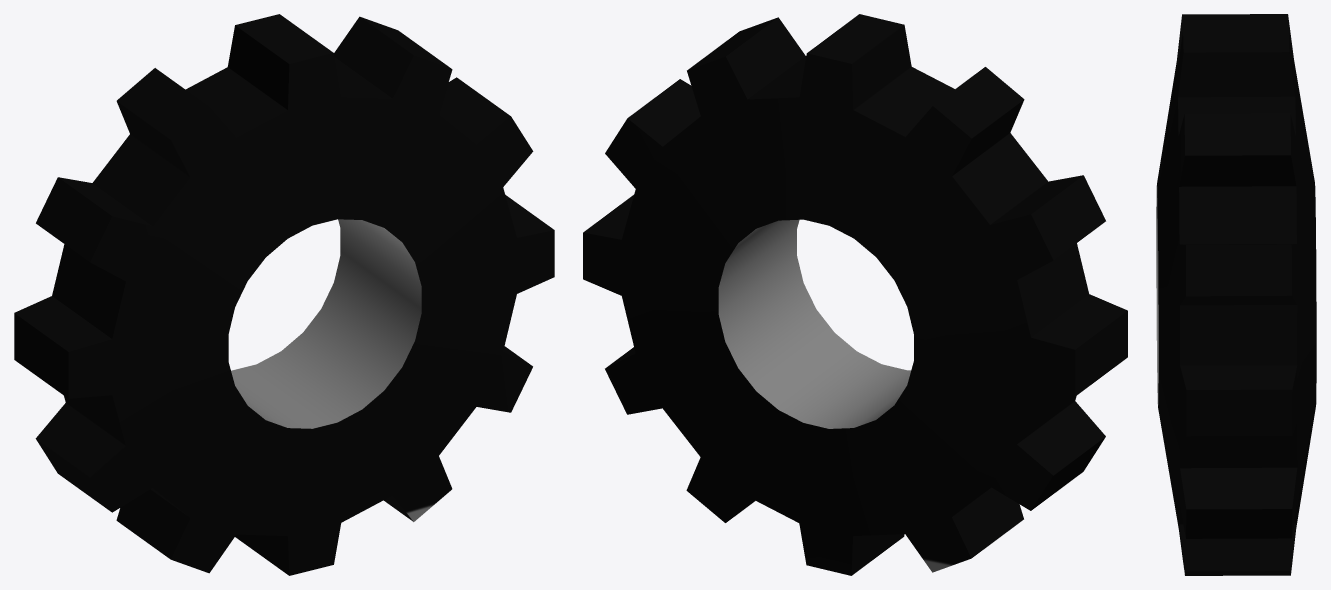
The picture shows the model from 3 angles, left to right: view 1: azimuth 30°, elevation 25°; view 2: azimuth 150°, elevation 25°; view 3: azimuth 270°, elevation 25°; orthographic projection.
Visible parts, largest first — view 1: WoS_Boundary; view 2: WoS_Boundary; view 3: WoS_Boundary.
Part boxes in pixels (x1,y1,x2,y2): WoS_Boundary: [14, 14, 554, 575]; WoS_Boundary: [583, 14, 1127, 575]; WoS_Boundary: [1156, 14, 1316, 575].
Bounding box in the file's own units: 1.98 × 1.98 × 0.5662.
Materials: 2 (2 with a texture image).
